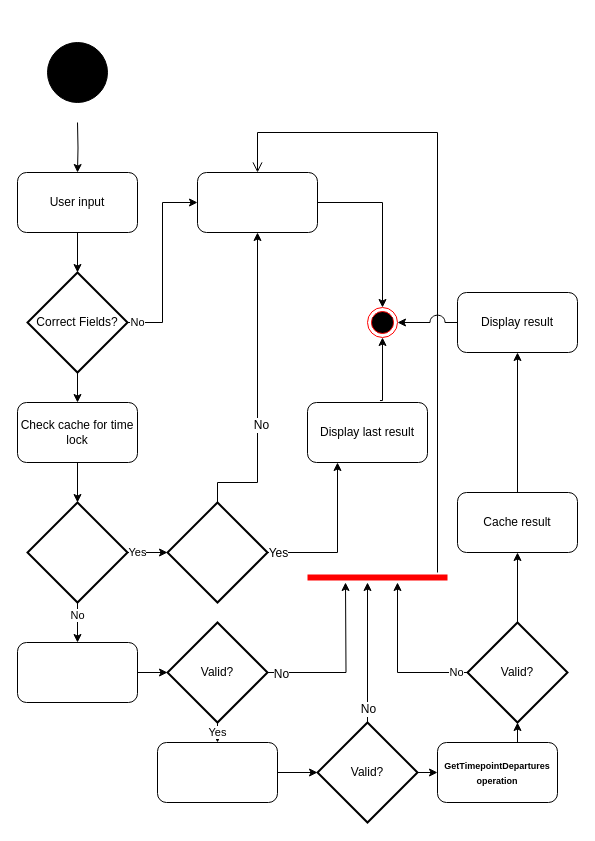
The diagram is 595 pixels wide and 841 high, and some of its shapes have lost their labels. The shapes that lost their labels are listed below. From the top down, each one's box as (x1, y1, x2, y2) in pixels, then its label:
(46, 42, 108, 102): User
(196, 172, 318, 232): Display error message
(26, 501, 128, 603): Within 30 seconds?
(166, 501, 268, 603): Same request?
(16, 642, 138, 702): GetRoutes operation
(156, 742, 278, 802): GetStops operation
